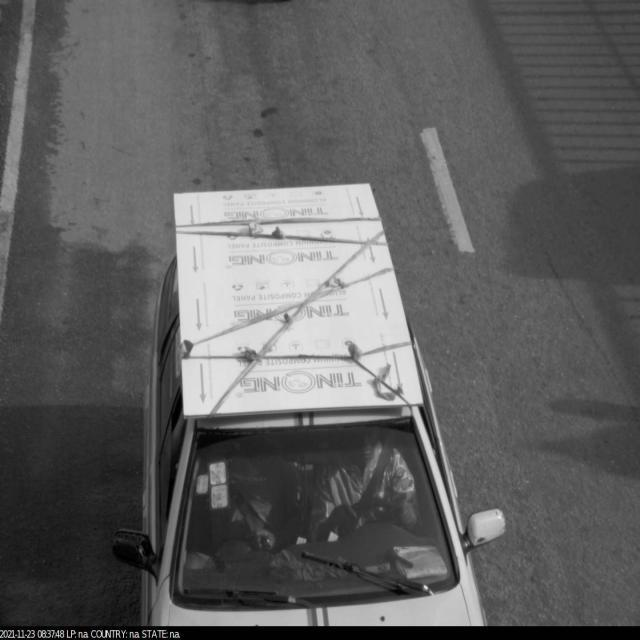windshield: (168, 413, 473, 618)
